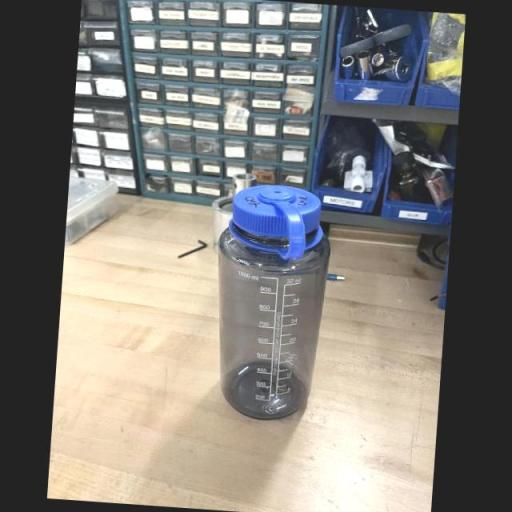bottle: (206, 181, 335, 424)
